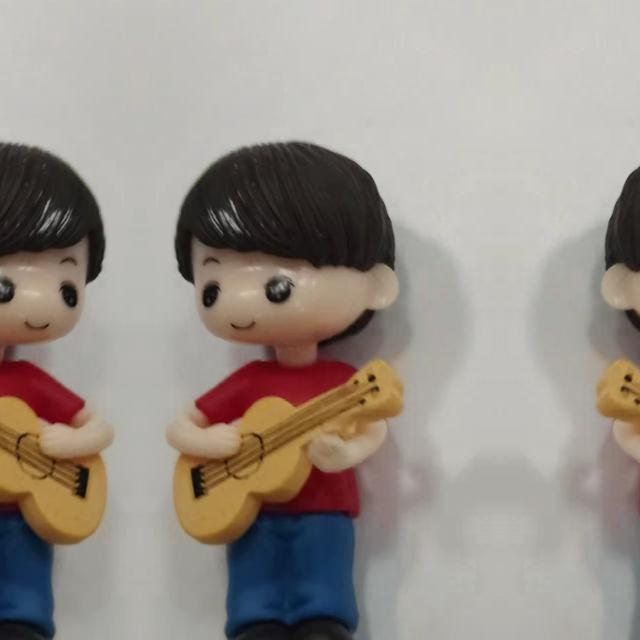man cloth: (191, 354, 383, 516), (0, 354, 89, 515), (617, 354, 640, 515)
man head: (170, 136, 404, 362), (0, 136, 110, 362), (595, 136, 640, 362)
trousers: (224, 512, 370, 638), (0, 511, 56, 638), (629, 511, 640, 638)
